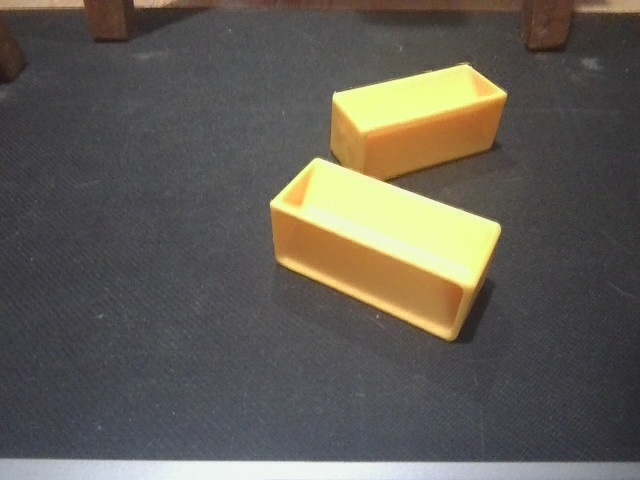YellowSample: (266, 156, 505, 346), (326, 59, 512, 186)
